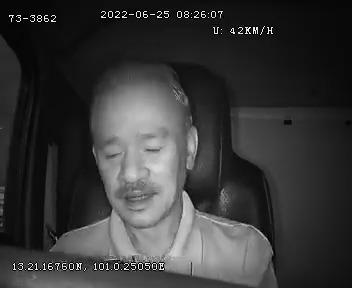PhoneUse: (55, 250, 151, 276)
